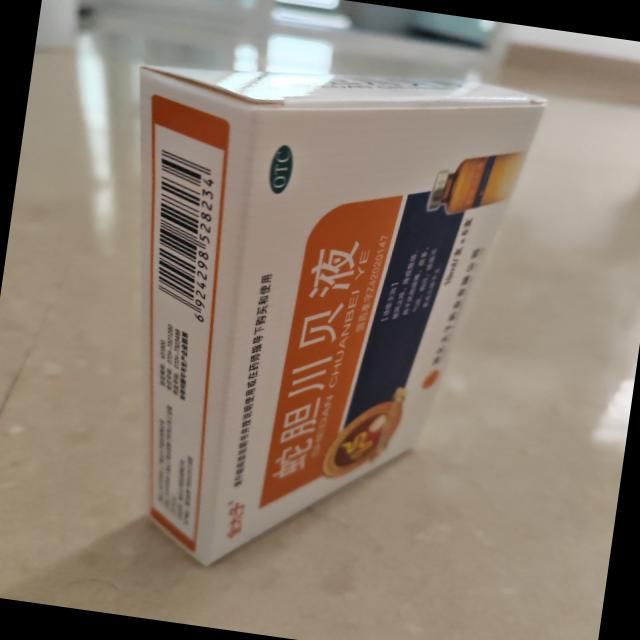box: (61, 31, 566, 612)
